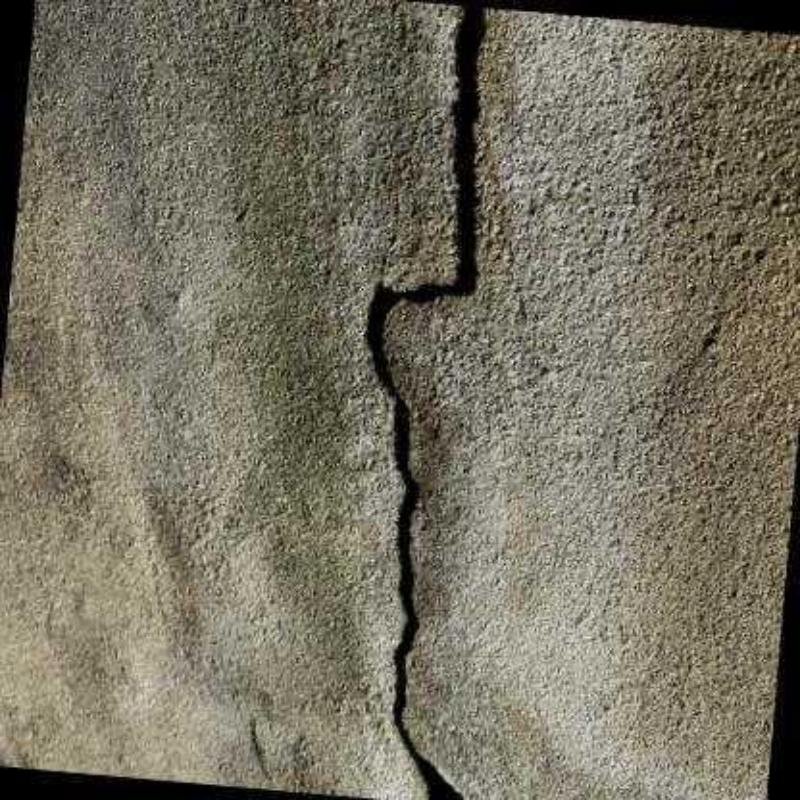pothole: (366, 5, 484, 800)
